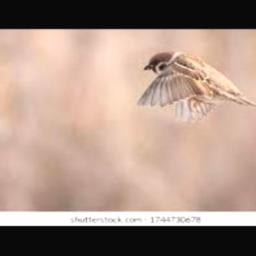Sparrow: (138, 51, 256, 124)
